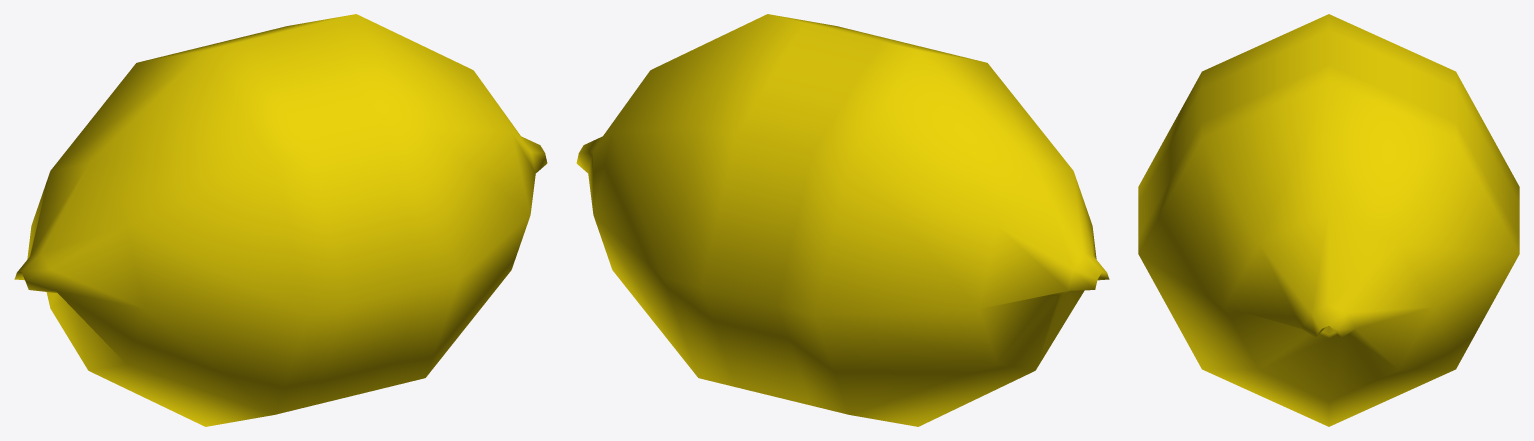
Rendered from lemon.glb.
3 renders of one model, left to right at view 1: azimuth 30°, elevation 25°; view 2: azimuth 150°, elevation 25°; view 3: azimuth 270°, elevation 25°, orthographic. The views are drawn at different scales.
Visible parts, largest first — view 1: Cube; view 2: Cube; view 3: Cube.
Part boxes in pixels (bbox=[...]): Cube: bbox=[14, 14, 547, 426]; Cube: bbox=[576, 14, 1109, 426]; Cube: bbox=[1138, 14, 1519, 426].
Size of the model in its own units: 2.94 by 2.04 by 2.04.
